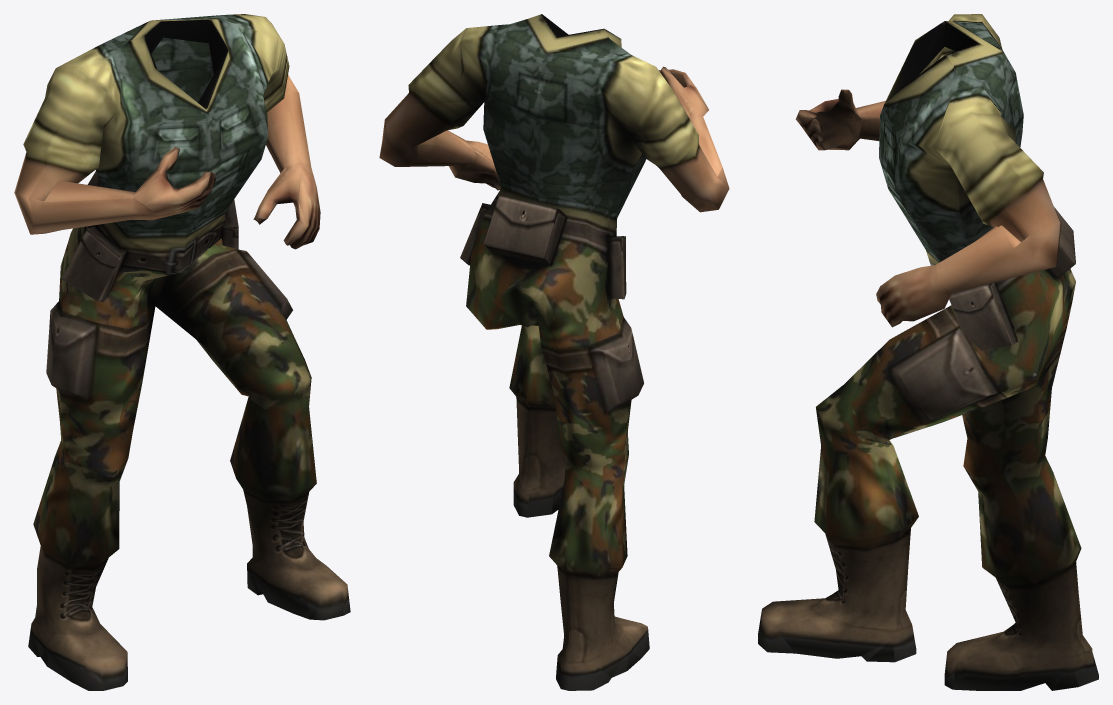
The model's file is mach-body.obj.
3 renders of one model, left to right at view 1: azimuth 30°, elevation 25°; view 2: azimuth 150°, elevation 25°; view 3: azimuth 270°, elevation 25°, orthographic. The views are drawn at different scales.
Visible parts, largest first — view 1: Group; view 2: Group; view 3: Group.
Boxes of the visible parts, x1,y1,x2,y2 form: Group: [14, 14, 350, 690]; Group: [379, 14, 729, 690]; Group: [758, 14, 1098, 690].
Bounding box in the file's own units: 20.74 × 40.51 × 18.54.
